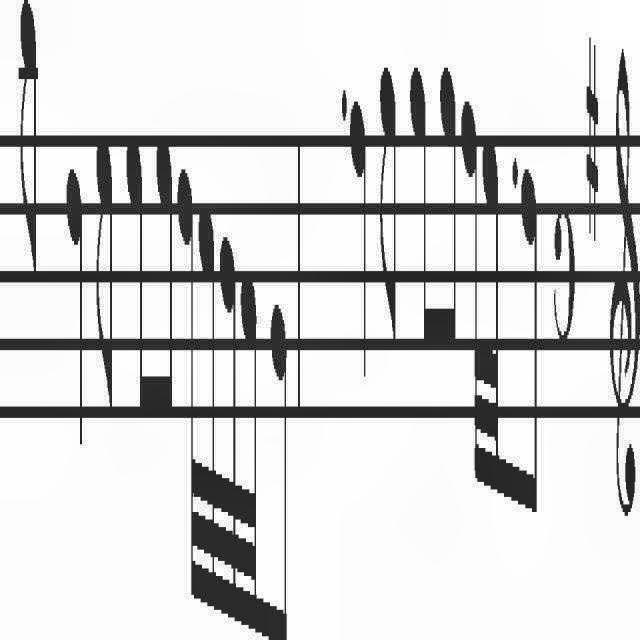Bass-clef: (607, 0, 640, 591), (639, 0, 640, 591)
Diez: (578, 19, 602, 232)
Eighth-note: (373, 18, 403, 362), (520, 118, 544, 542), (89, 108, 119, 440), (122, 108, 148, 432), (14, 0, 42, 294), (271, 267, 293, 640), (409, 38, 431, 386), (154, 111, 174, 469), (440, 41, 460, 380), (350, 67, 368, 386)
Quarter-note: (61, 150, 83, 470)
